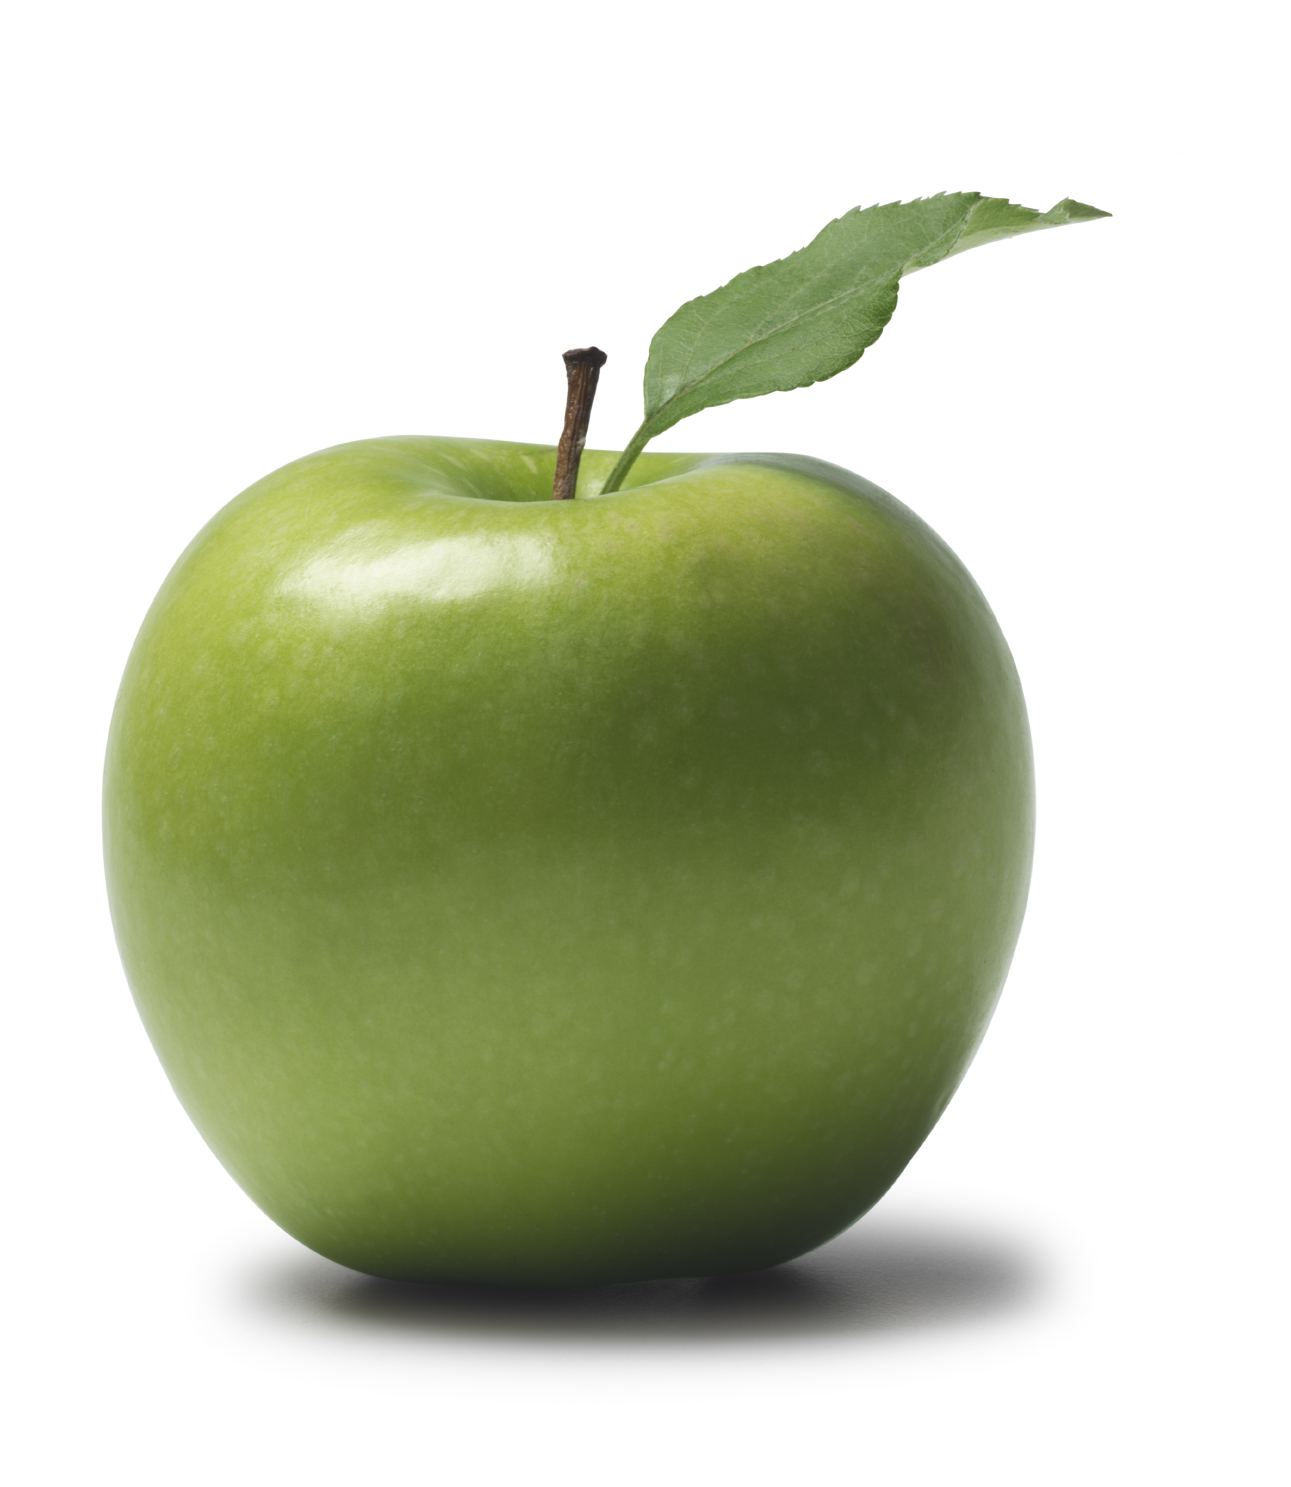apple: (97, 190, 1118, 1291)
